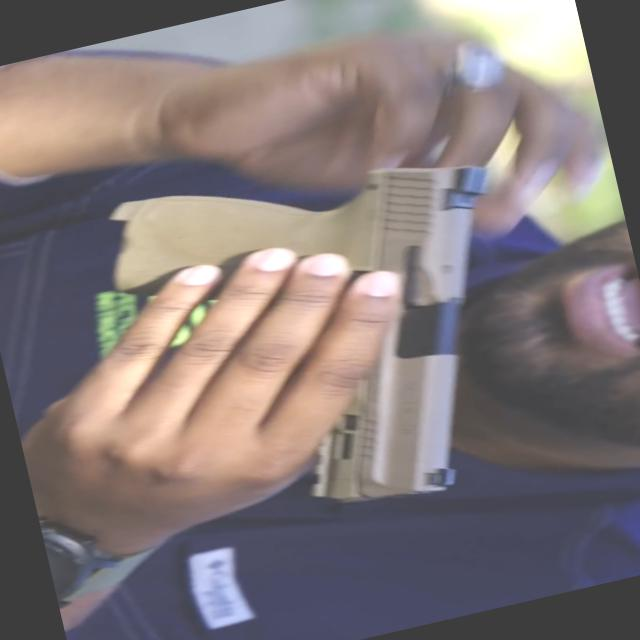handgun: (31, 80, 558, 594)
